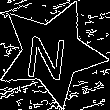N_N: (28, 25, 75, 81)
